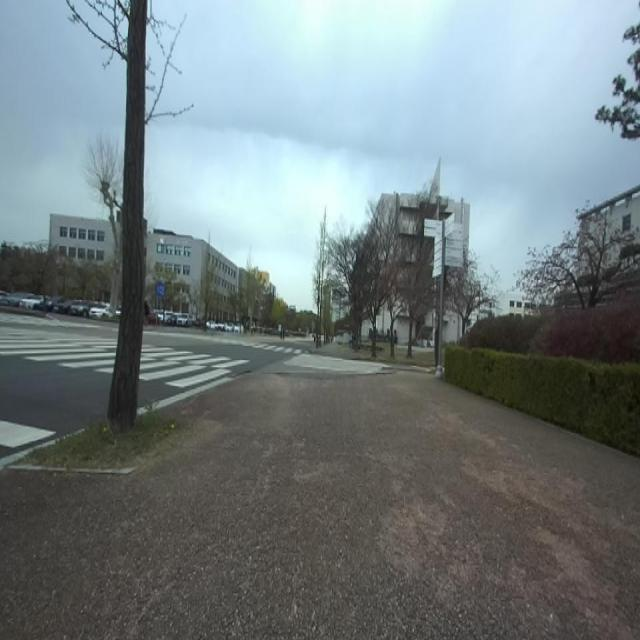sidewalk: (0, 372, 640, 639), (136, 376, 232, 416), (0, 437, 66, 471)
